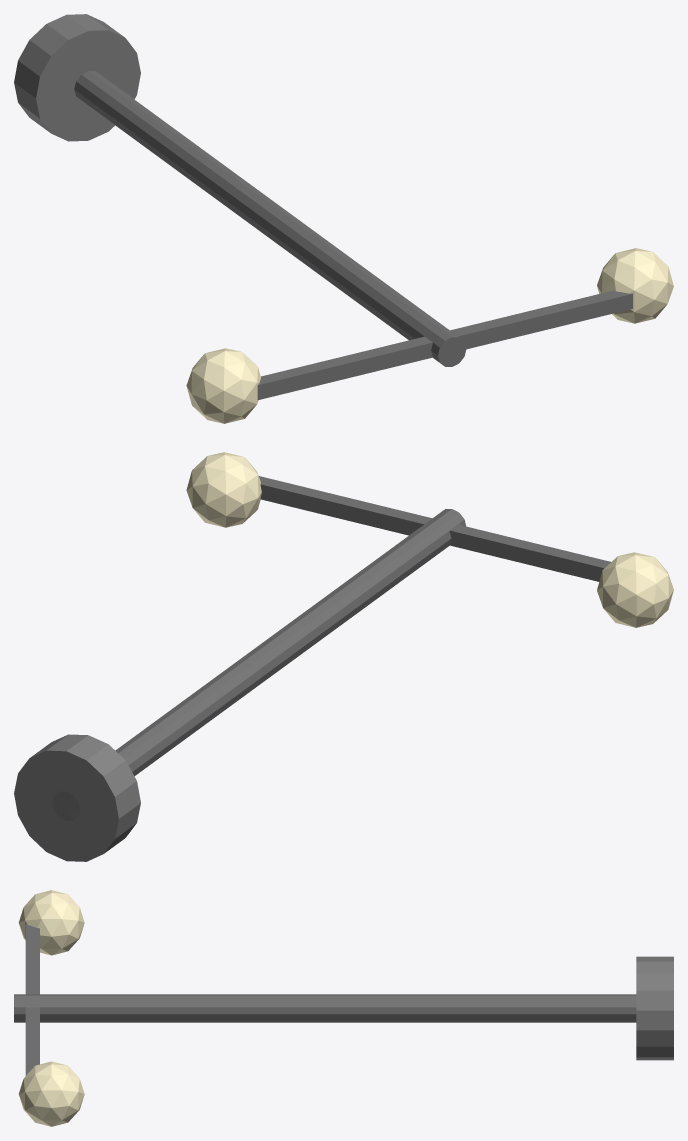
The model's file is city_street_lamp_double.glb.
3 renders of one model, top to bottom at view 1: azimuth 30°, elevation 25°; view 2: azimuth 150°, elevation 25°; view 3: azimuth 270°, elevation 25°, orthographic. The views are drawn at different scales.
Parts seen in each view (by area): view 1: pole, base, lamp_glow_2, arm_back, arm, lamp_glow; view 2: pole, base, lamp_glow_2, lamp_glow, arm, arm_back; view 3: pole, base, lamp_glow, lamp_glow_2, arm_back, arm.
Boxes of the visible parts, box(x1,y1,x2,y2) form: pole: box(74, 71, 466, 366); base: box(14, 14, 140, 141); lamp_glow_2: box(186, 348, 260, 423); arm_back: box(257, 336, 432, 399); arm: box(450, 290, 632, 349); lamp_glow: box(597, 248, 673, 323); pole: box(52, 509, 466, 821); base: box(14, 734, 140, 861); lamp_glow_2: box(597, 552, 673, 627); lamp_glow: box(186, 452, 261, 527); arm: box(259, 476, 431, 535); arm_back: box(449, 524, 610, 581); pole: box(14, 994, 636, 1022); base: box(636, 956, 673, 1060); lamp_glow: box(18, 1061, 84, 1126); lamp_glow_2: box(18, 890, 84, 955); arm_back: box(25, 924, 39, 994); arm: box(25, 1007, 39, 1075).
Bounding box in the file's own units: 2 × 0.44 × 2.8.
